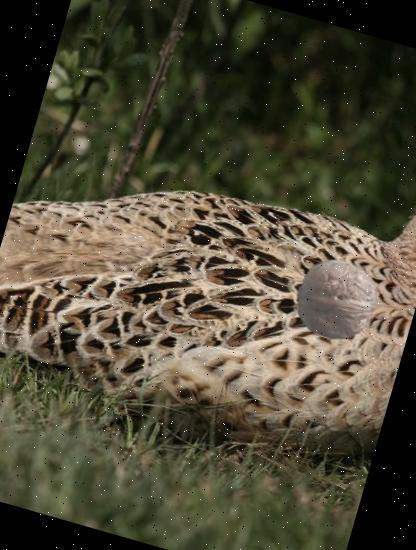Walnut: (286, 249, 387, 350)
